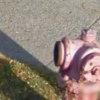Hydrant: (46, 14, 100, 100)
